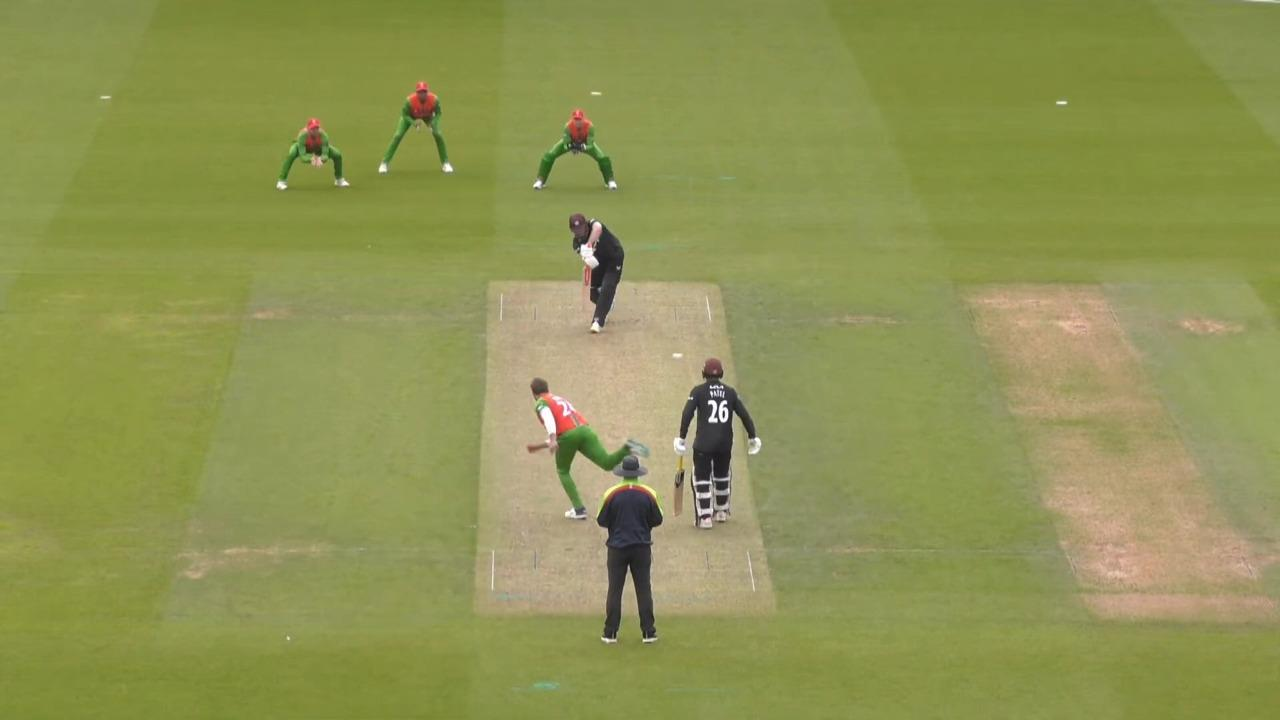sports ball: (672, 353, 683, 358)
